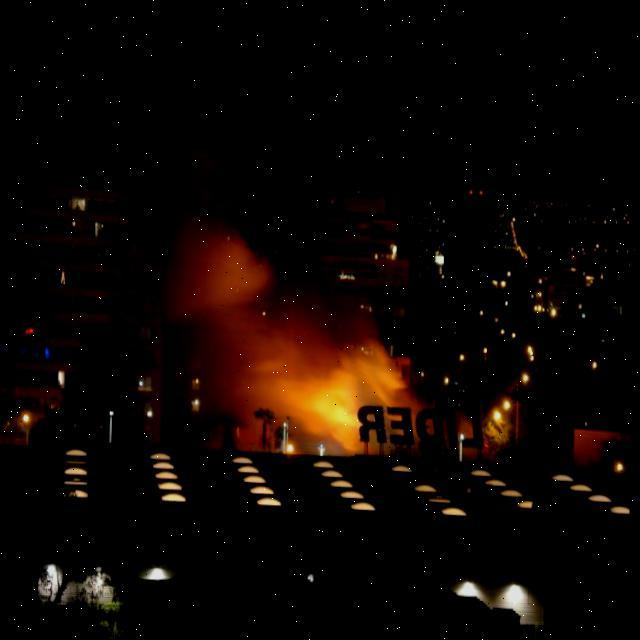Fire: (255, 334, 380, 445)
